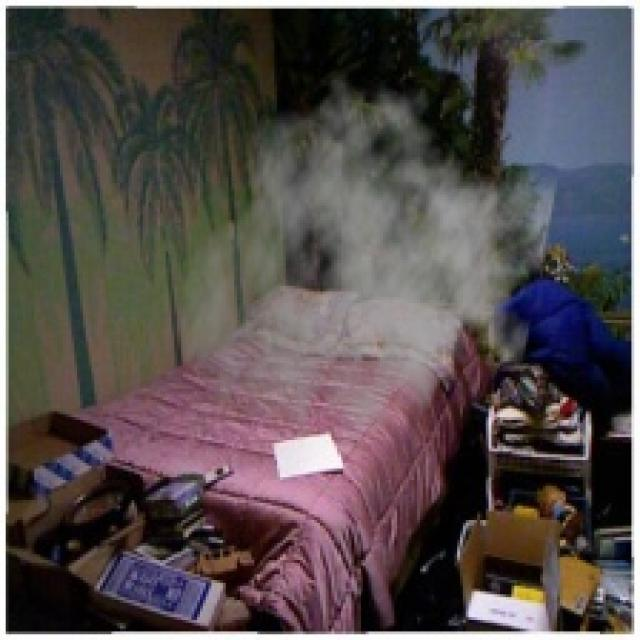smoke: (174, 66, 560, 477)
